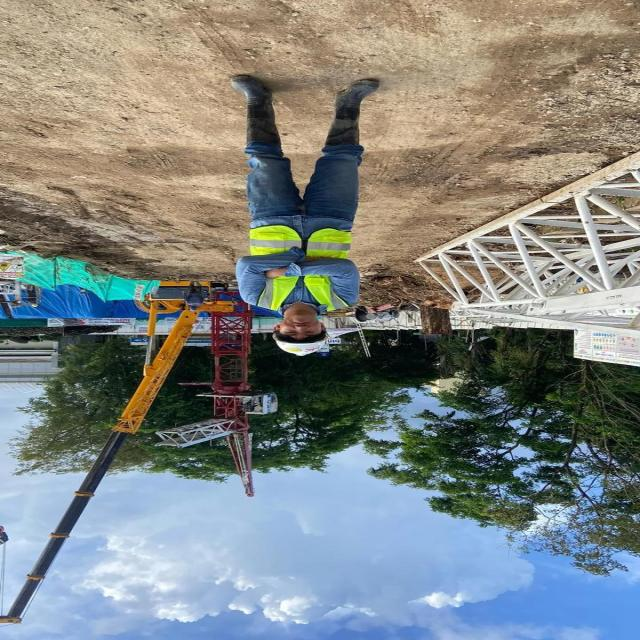safetyhelmet: (271, 311, 328, 356)
